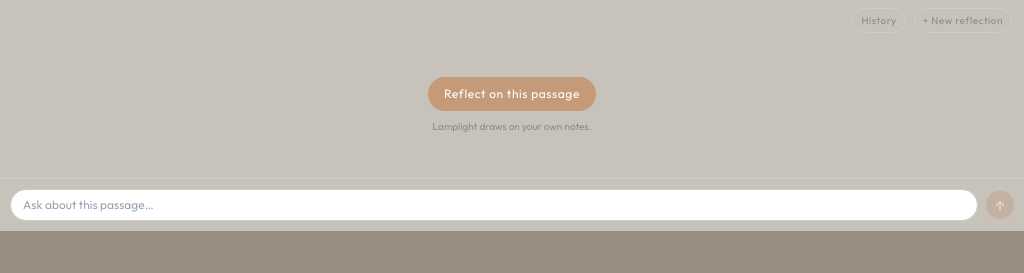
Scenario: LamplightChat › shows an error bubble when the send fails
Type "hello" into the field with placeholder "Ask about this passage…" at (494, 205), box [10,189,978,221]
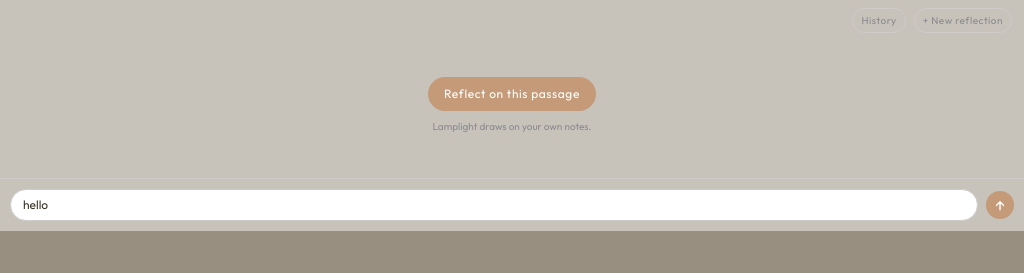
Click the button named "send" at (1000, 205), box [986,191,1014,219]
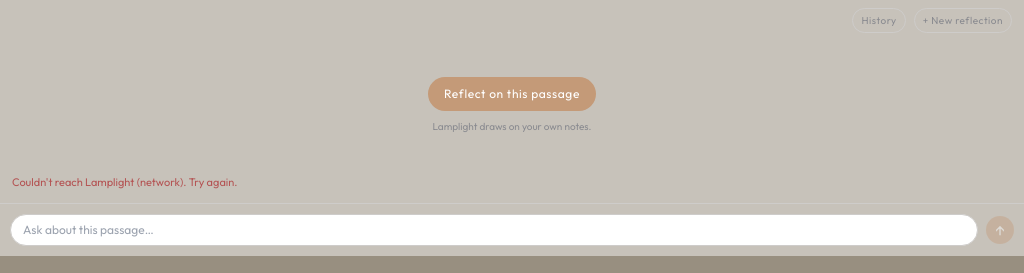
Now the text "Couldn't reach Lamplight (network). Try again." is shown, box [12,175,238,189]
